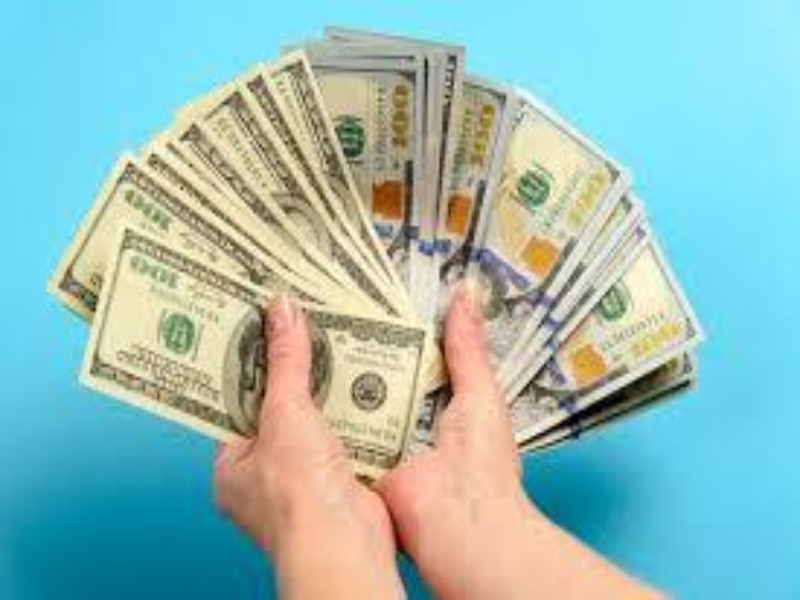cash: (46, 27, 705, 480)
